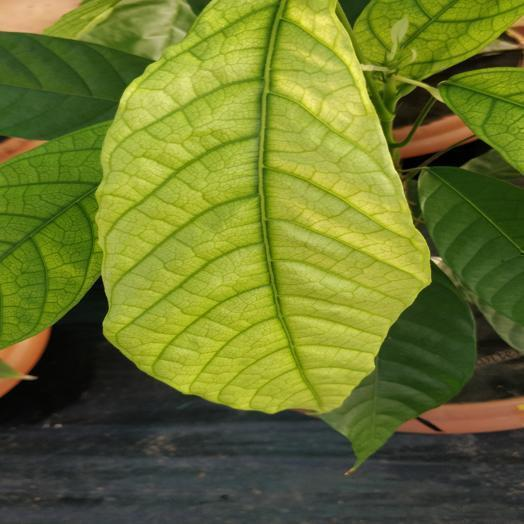Iron: (97, 0, 429, 412), (0, 124, 108, 348), (353, 0, 523, 80), (440, 69, 523, 171)
